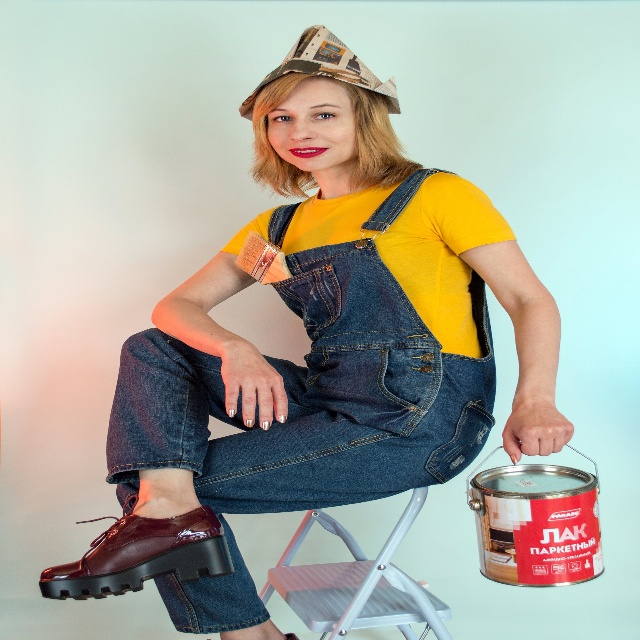Sin_guantes: (219, 338, 289, 433), (501, 395, 575, 465)
